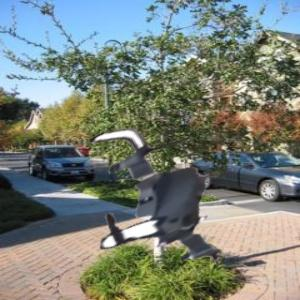drone: (66, 115, 243, 292)
